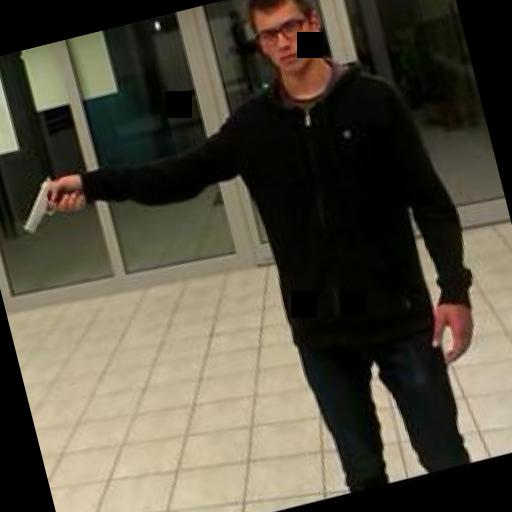Handgun: (9, 166, 84, 234)
